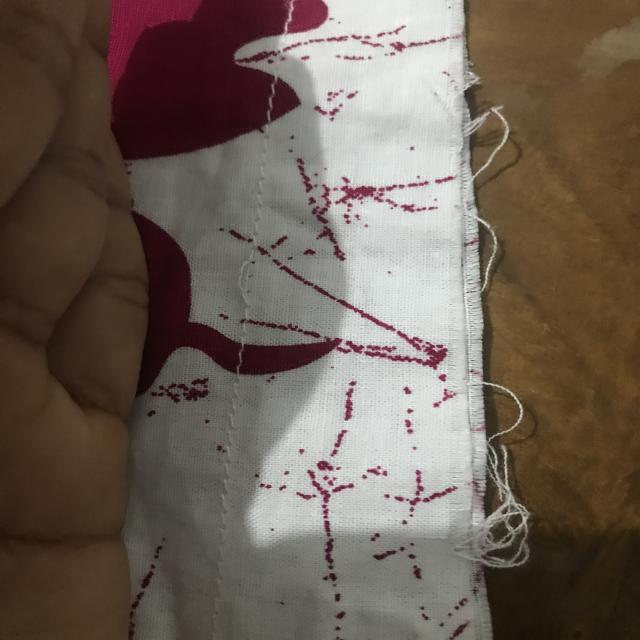skip: (211, 252, 268, 324)
